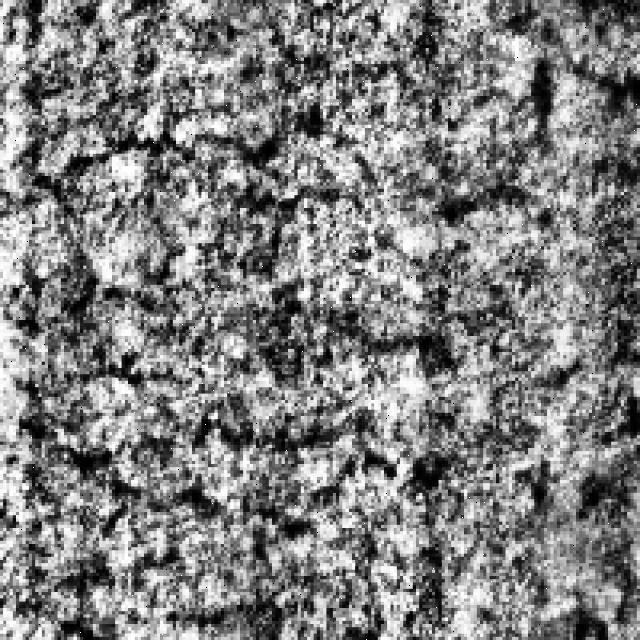Pitted_Surface: (6, 92, 461, 532)
